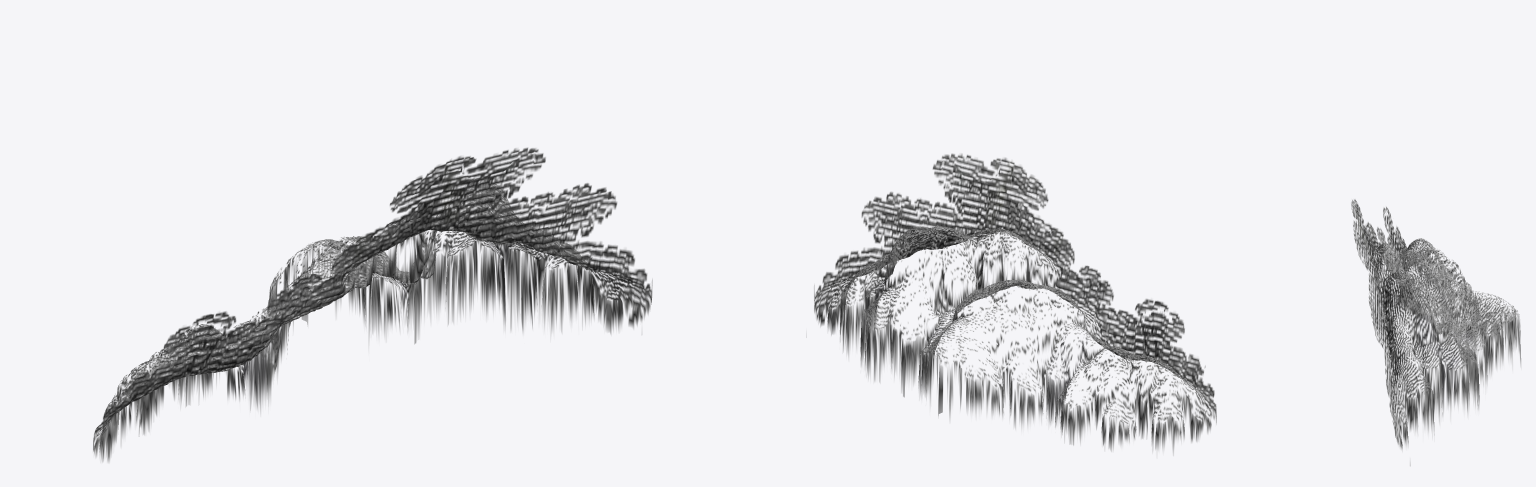
The model's file is clouds.glb.
3 renders of one model, left to right at view 1: azimuth 30°, elevation 25°; view 2: azimuth 150°, elevation 25°; view 3: azimuth 270°, elevation 25°, orthographic. The views are drawn at different scales.
Visible parts, largest first — view 1: Plane; view 2: Plane; view 3: Plane.
Boxes of the visible parts, left/top/right/bottom form: Plane: left=93, top=147, right=652, bottom=462; Plane: left=806, top=153, right=1216, bottom=455; Plane: left=1351, top=199, right=1520, bottom=465.
Size of the model in its own units: 4.05 by 2.89 by 2.
1 material, 1 textured.
